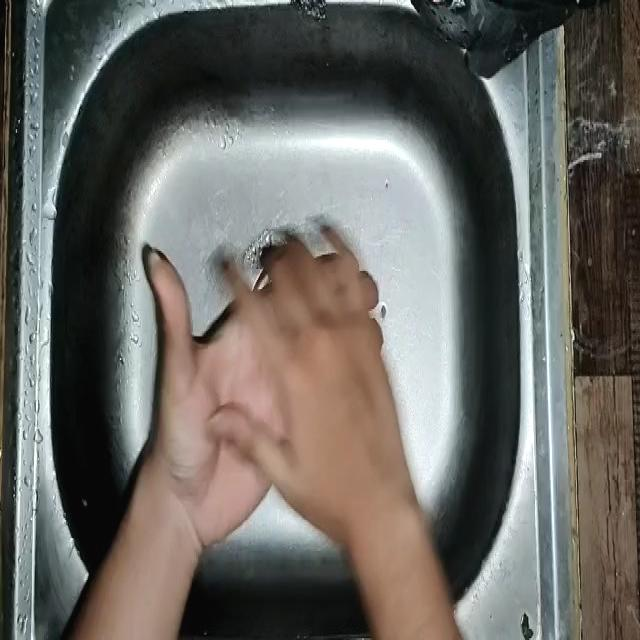step_5: (126, 218, 389, 534)
